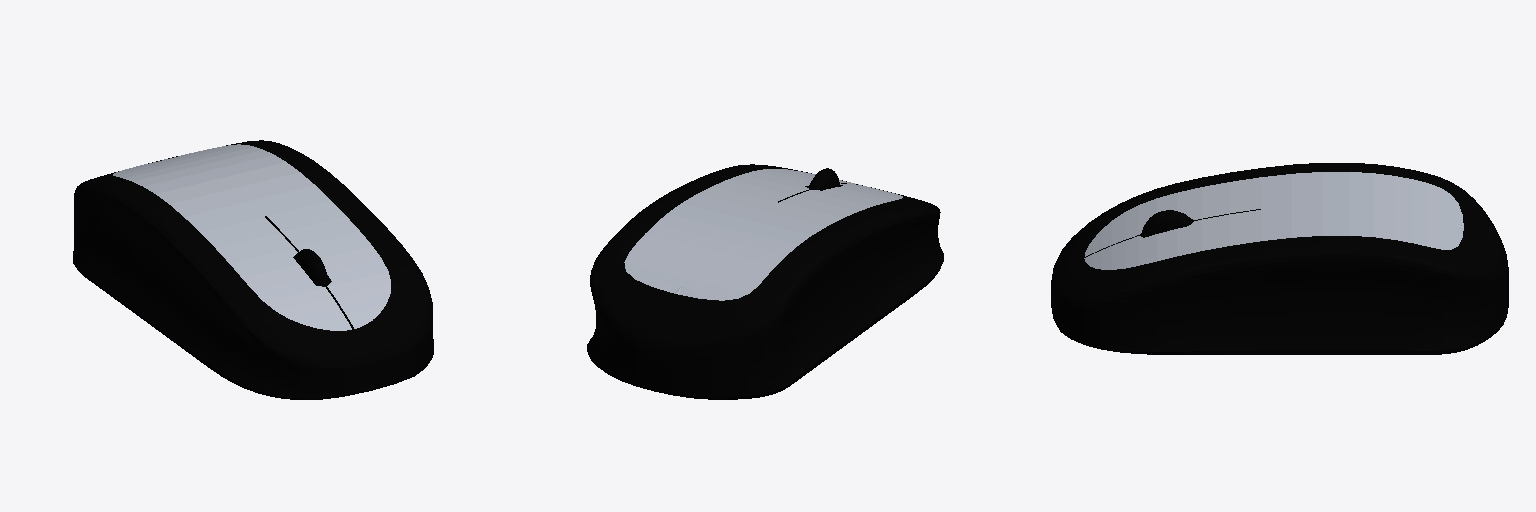
The model's file is mouse.obj.
3 views of the same model, side by side, from view 1: azimuth 30°, elevation 25°; view 2: azimuth 150°, elevation 25°; view 3: azimuth 270°, elevation 25° (orthographic).
Parts seen in each view (by area): view 1: Cube_Cube.001, Cube.001_Cube.005, Sphere; view 2: Cube_Cube.001, Cube.001_Cube.005; view 3: Cube_Cube.001, Cube.001_Cube.005, Sphere.
Boxes of the visible parts, x1,y1,x2,y2 form: Cube_Cube.001: [73, 140, 433, 399]; Cube.001_Cube.005: [113, 144, 390, 330]; Sphere: [295, 249, 327, 289]; Cube_Cube.001: [587, 164, 943, 399]; Cube.001_Cube.005: [624, 169, 902, 300]; Cube_Cube.001: [1051, 163, 1508, 354]; Cube.001_Cube.005: [1084, 172, 1463, 269]; Sphere: [1142, 210, 1192, 237].
Size of the model in its own units: 0.9857 by 0.4985 by 1.98.